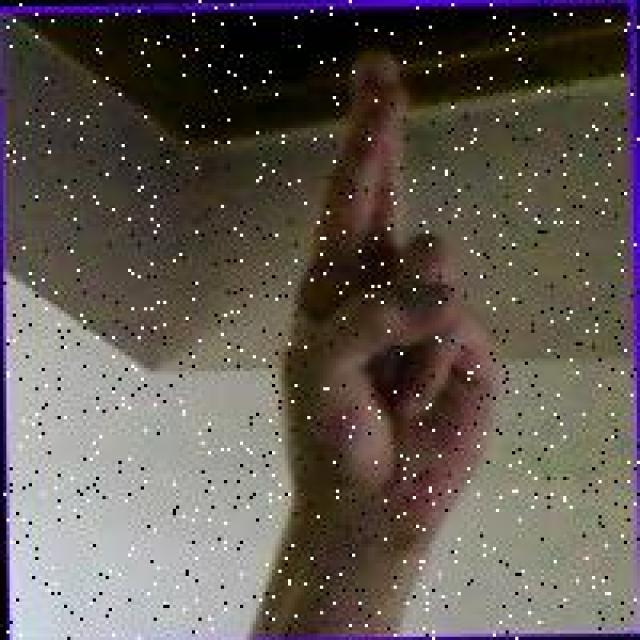R: (270, 38, 508, 557)
